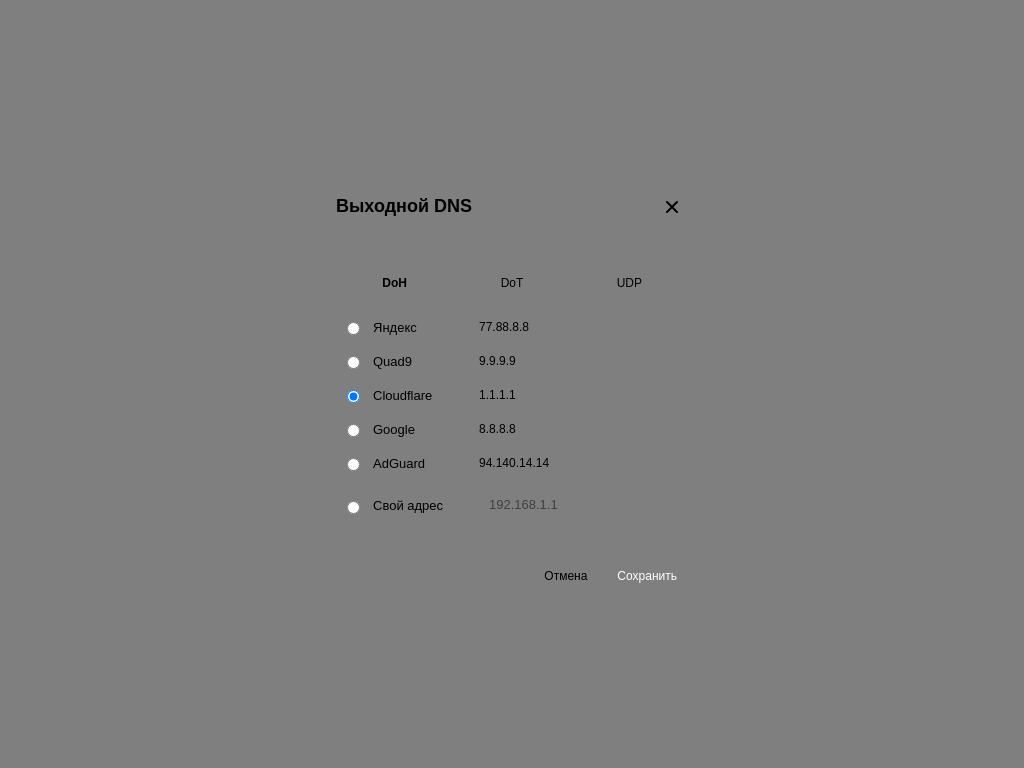
Test case: SimpleDnsPickerModal › переход на UDP с настроенными пинами предупреждает о потере
Click the button "UDP" at (629, 283), box [573,270,686,296]
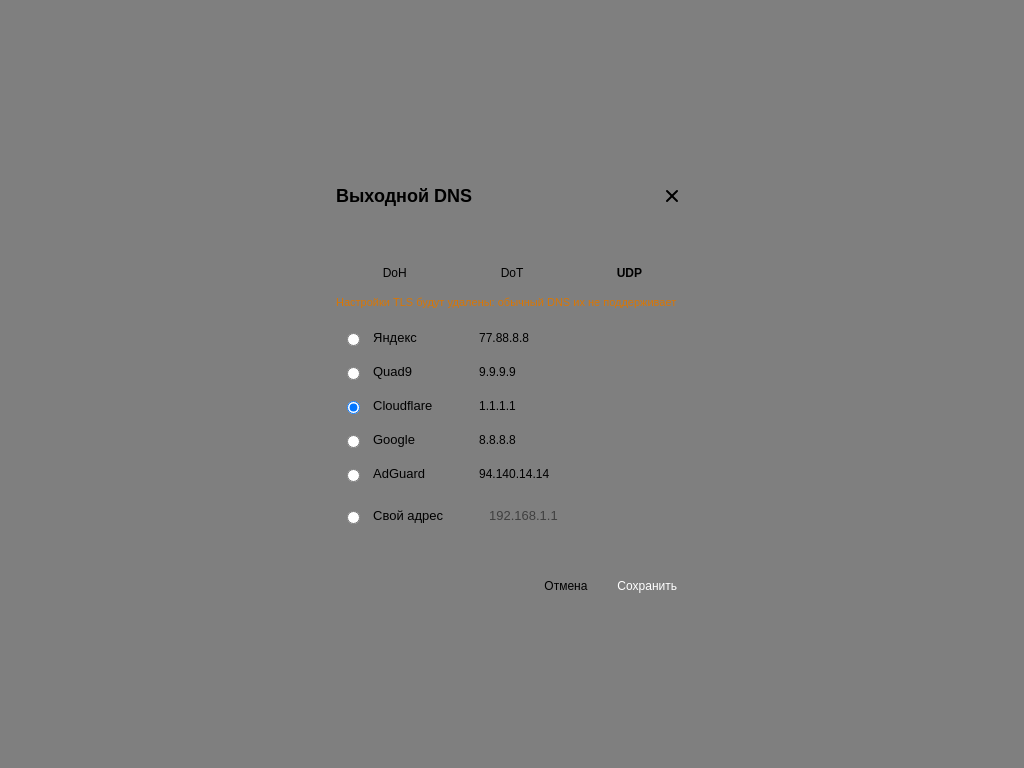
Result: the text "Настройки TLS будут удалены: обычный DNS их не поддерживает" is shown at [336,295,688,310]
